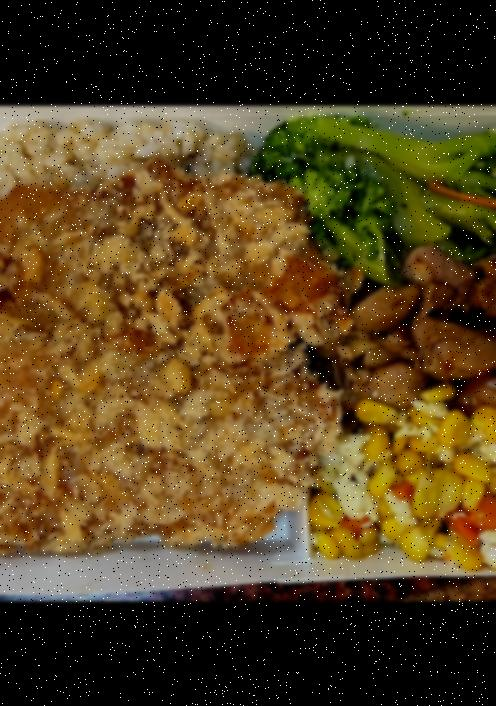big grilled chicken leg: (0, 105, 496, 601)
box: (0, 117, 258, 267)
braised fish fillet: (255, 116, 496, 260), (312, 412, 496, 565)
braised pork: (0, 170, 332, 555), (323, 255, 496, 414)
